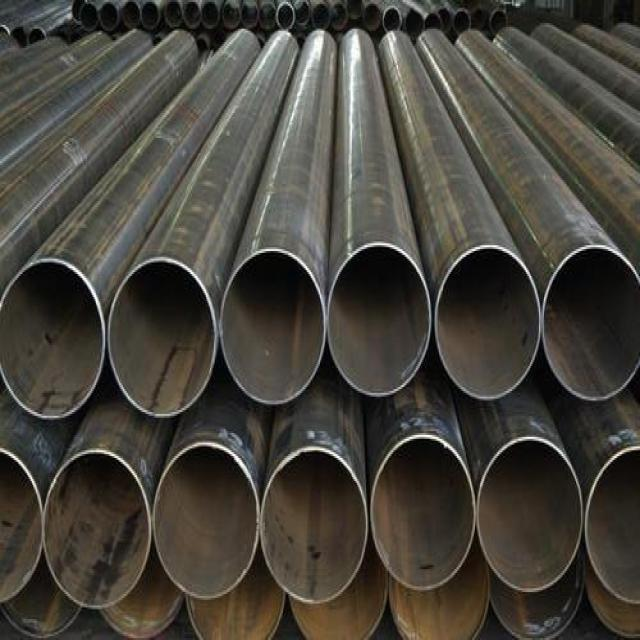pipe: (433, 241, 546, 406), (108, 256, 221, 419), (217, 245, 329, 408), (261, 442, 370, 609), (43, 445, 153, 610), (325, 239, 434, 402), (370, 431, 479, 594), (0, 255, 106, 422), (477, 434, 586, 593), (152, 441, 261, 600), (542, 245, 640, 404), (583, 440, 640, 609), (0, 445, 45, 608)
